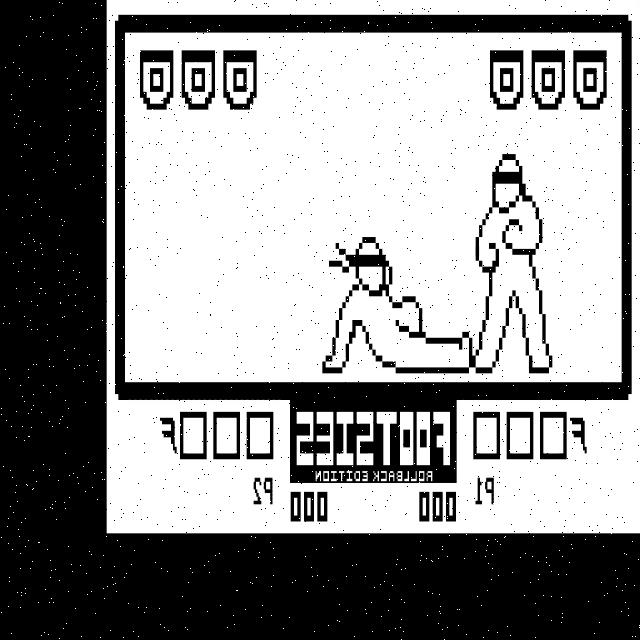Idle: (470, 150, 554, 375)
Kick: (321, 232, 478, 376)
